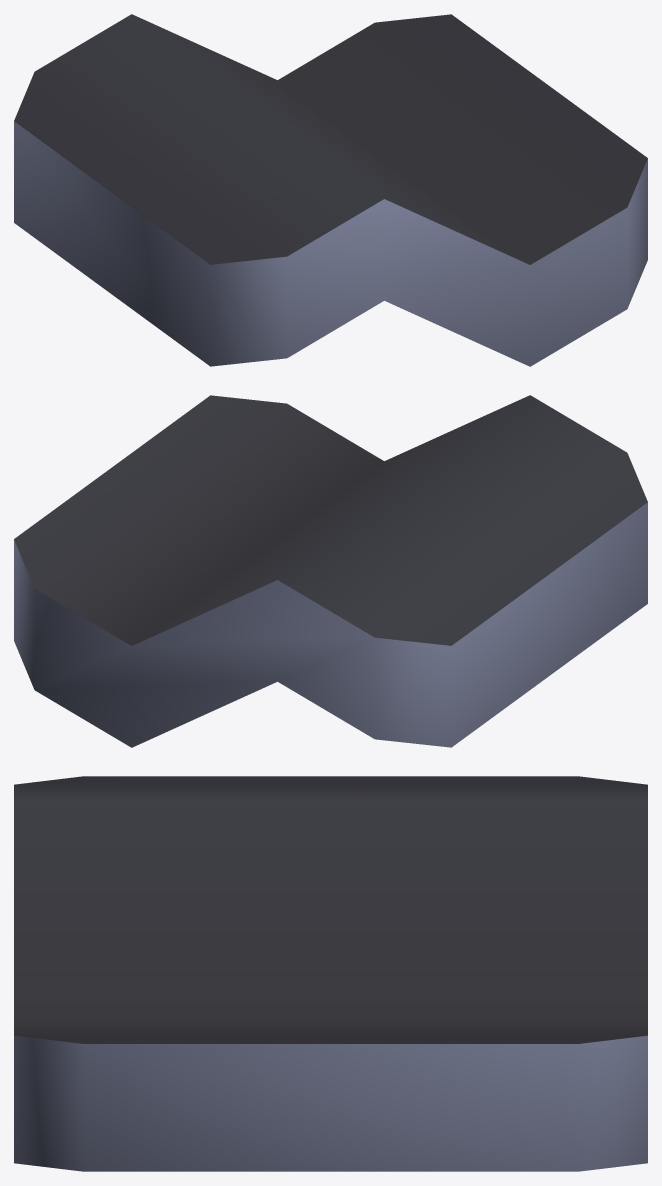
File: debris-plate-small-b.glb
The picture shows the model from 3 angles, top to bottom: view 1: azimuth 30°, elevation 25°; view 2: azimuth 150°, elevation 25°; view 3: azimuth 270°, elevation 25°; orthographic projection. The views are drawn at different scales.
Visible parts, largest first — view 1: debris-plate-small-b; view 2: debris-plate-small-b; view 3: debris-plate-small-b.
Boxes of the visible parts, x1,y1,x2,y2 form: debris-plate-small-b: (14, 14, 647, 366); debris-plate-small-b: (14, 395, 647, 747); debris-plate-small-b: (14, 776, 647, 1171).
Size of the model in its own units: 0.45 by 0.2 by 0.45.
